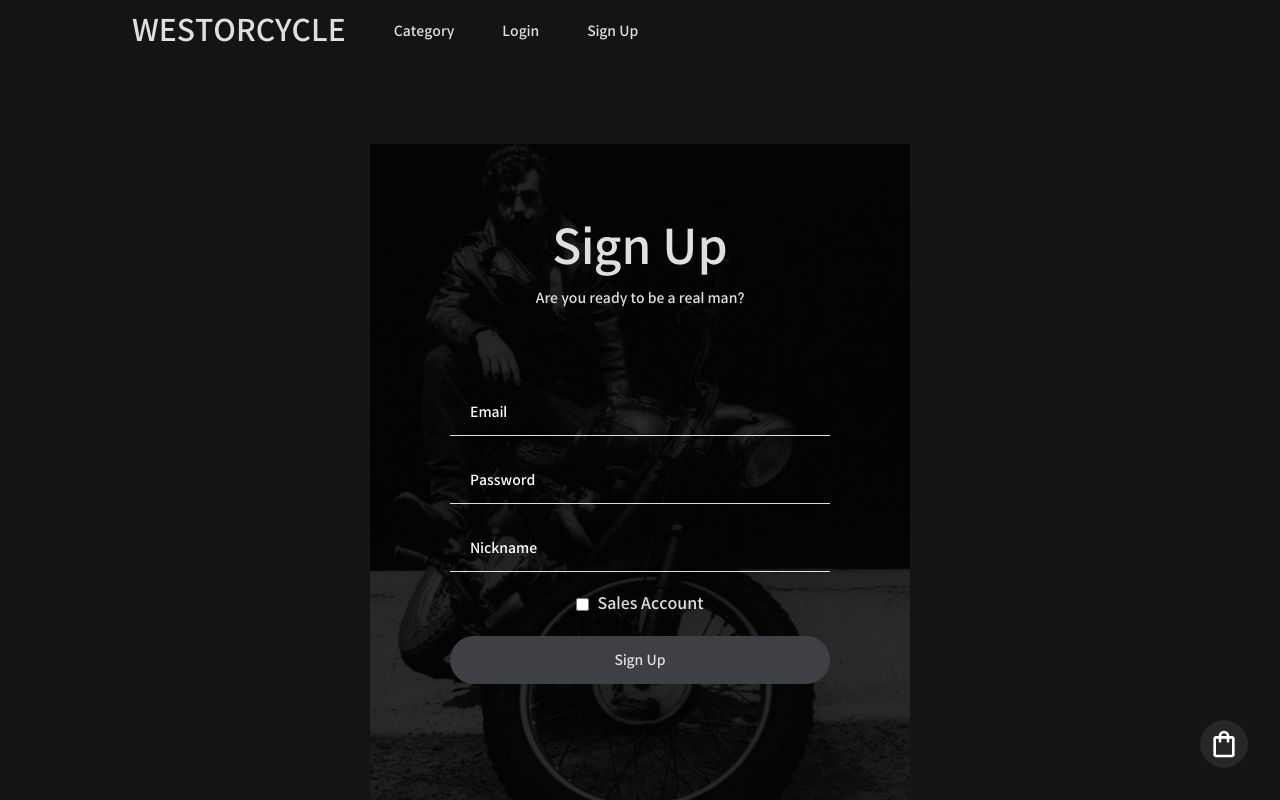
it: SignUp › should display an error message when password too short
Type "test@test.com" into the field with id "email-signup". click: (640, 412)
box: [450,388,830,436]
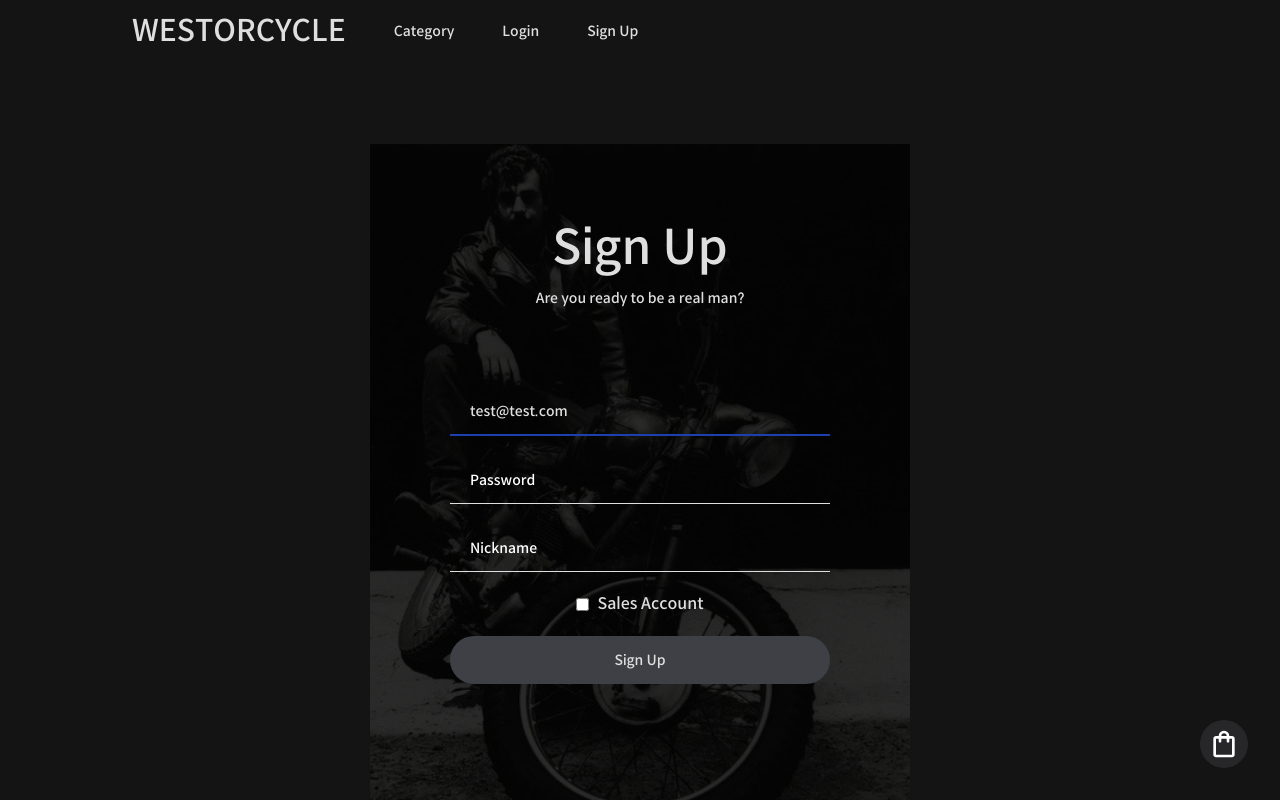
Type "test" into the field with id "nickname-signup". click: (640, 548)
box: [450,524,830,572]
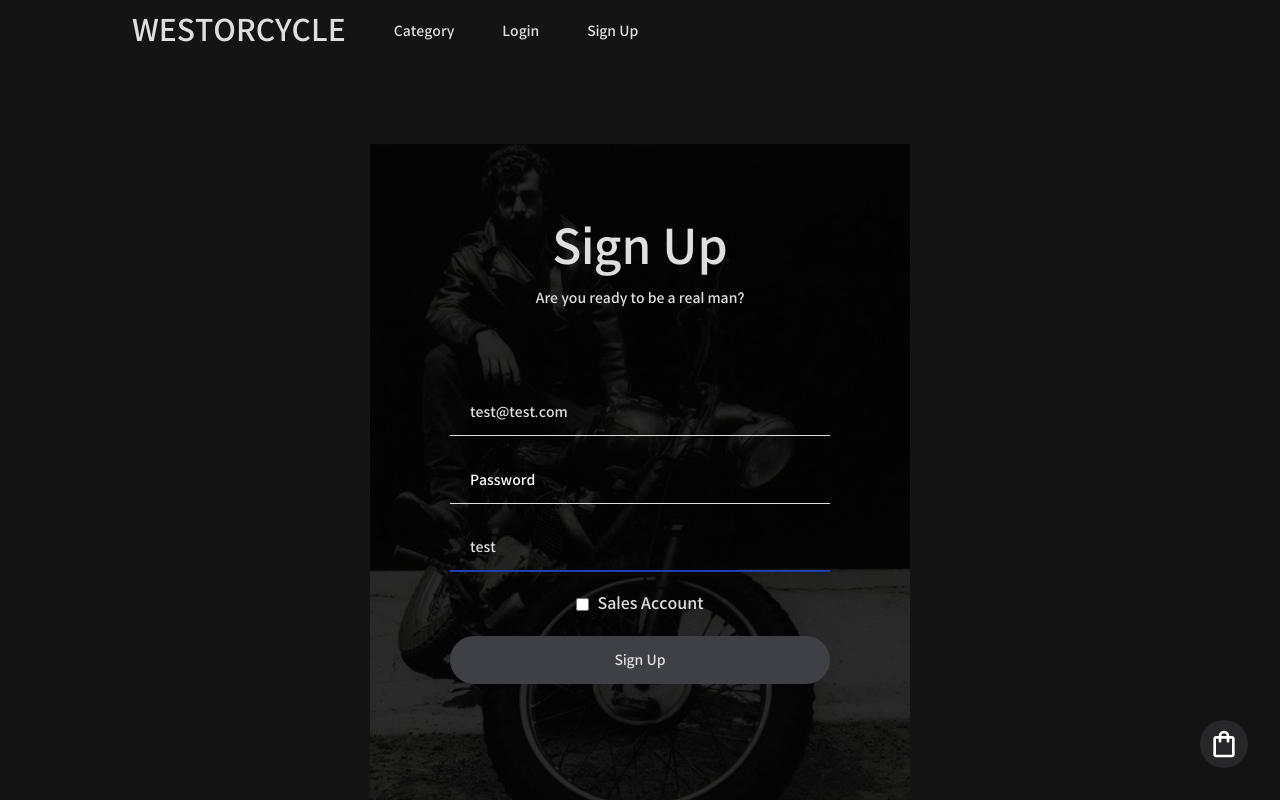
Type "Testtesttest1@" into the password field with placeholder "Password". click: (640, 480)
box: [450,456,830,504]
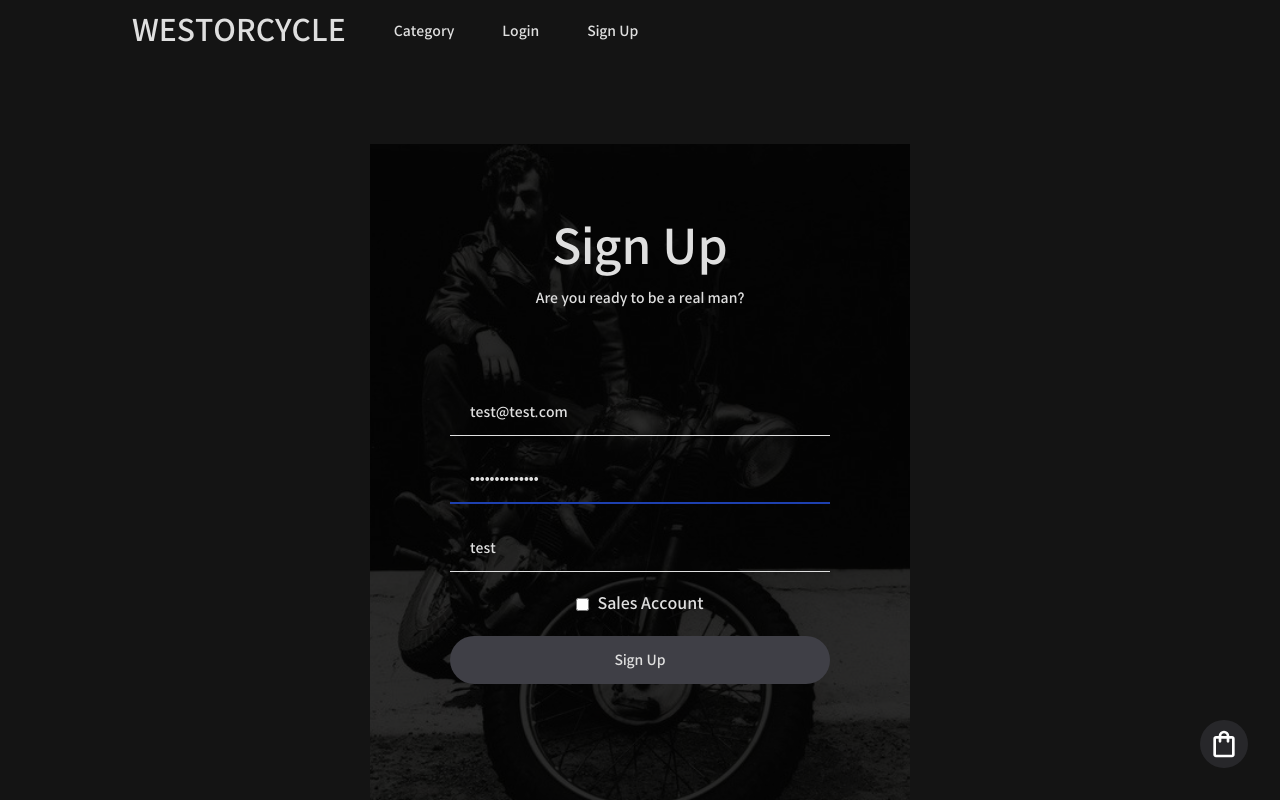
Type "1111" into the password field. click: (640, 480)
box: [450,456,830,504]
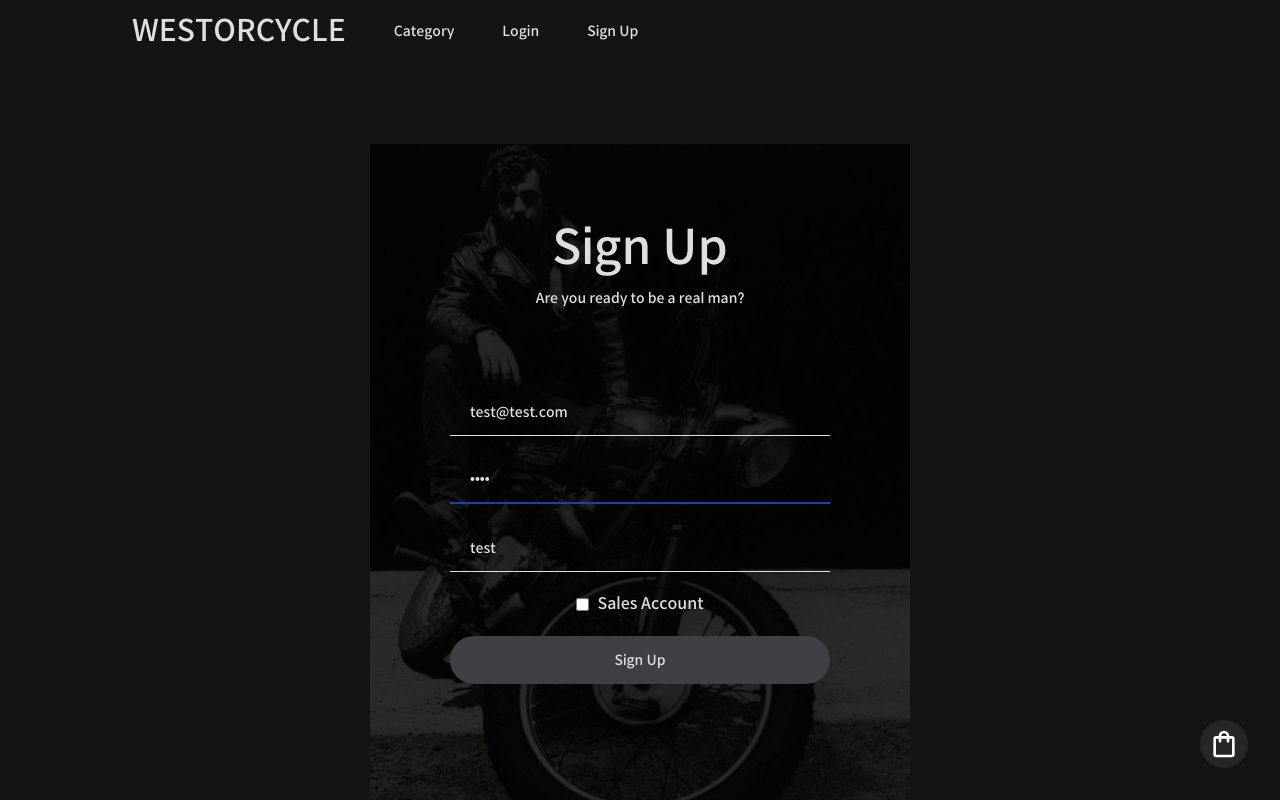
Click the button with id "signUpButton". click: (640, 660)
box: [450,636,830,684]
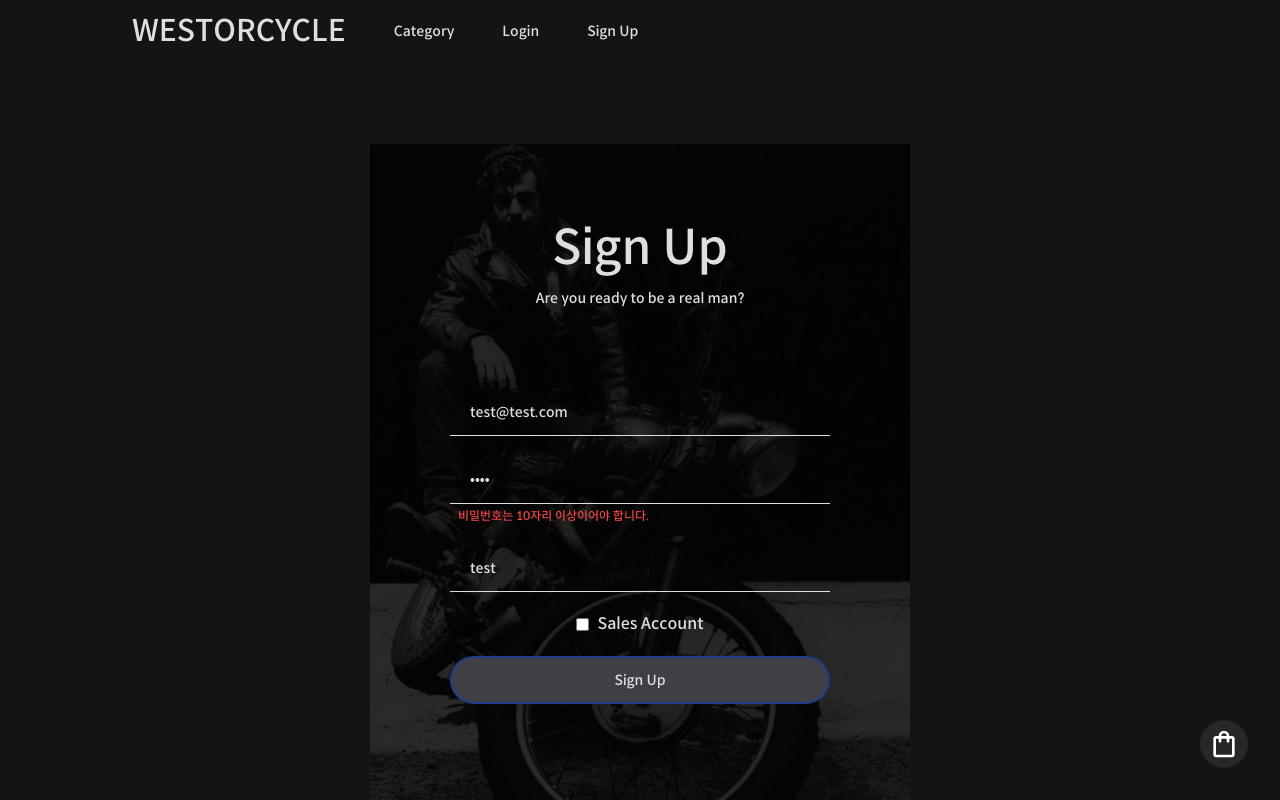
Check: the text "비밀번호는 10자리 이상이어야 합니다." is shown, box [458,508,649,523]
